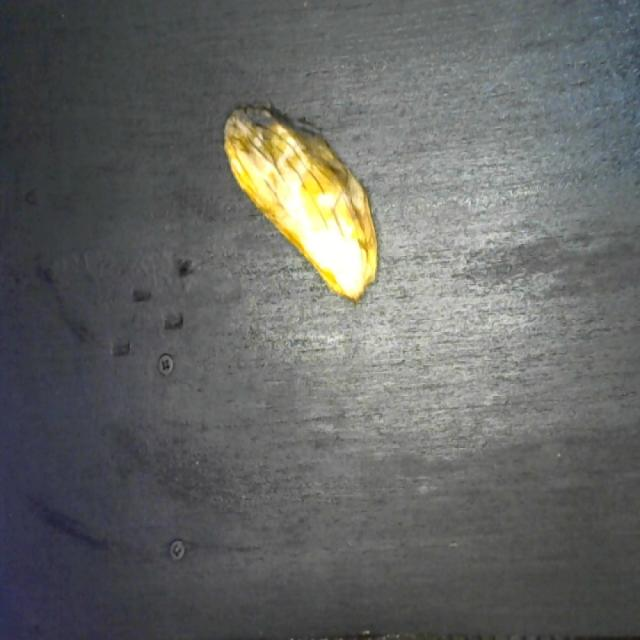biodegradable: (219, 94, 382, 308)
